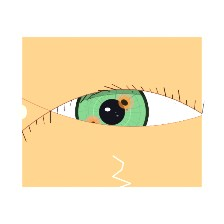foreign_body_visible: (81, 114, 105, 133)
